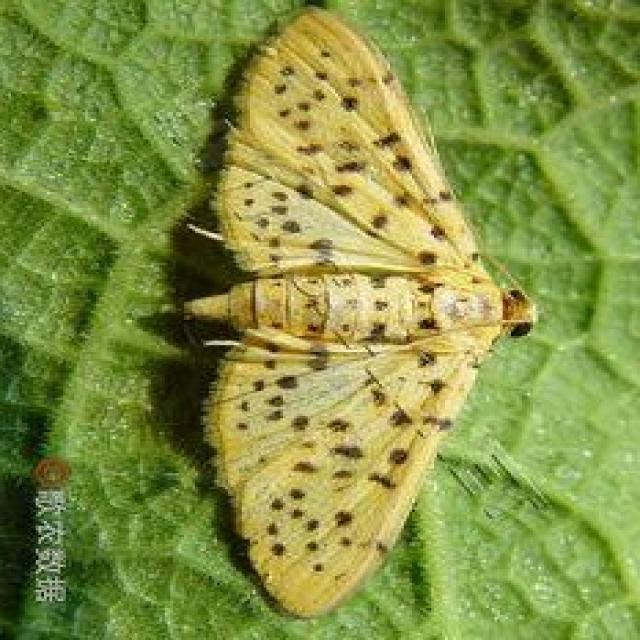peach borer: (170, 5, 541, 632)
